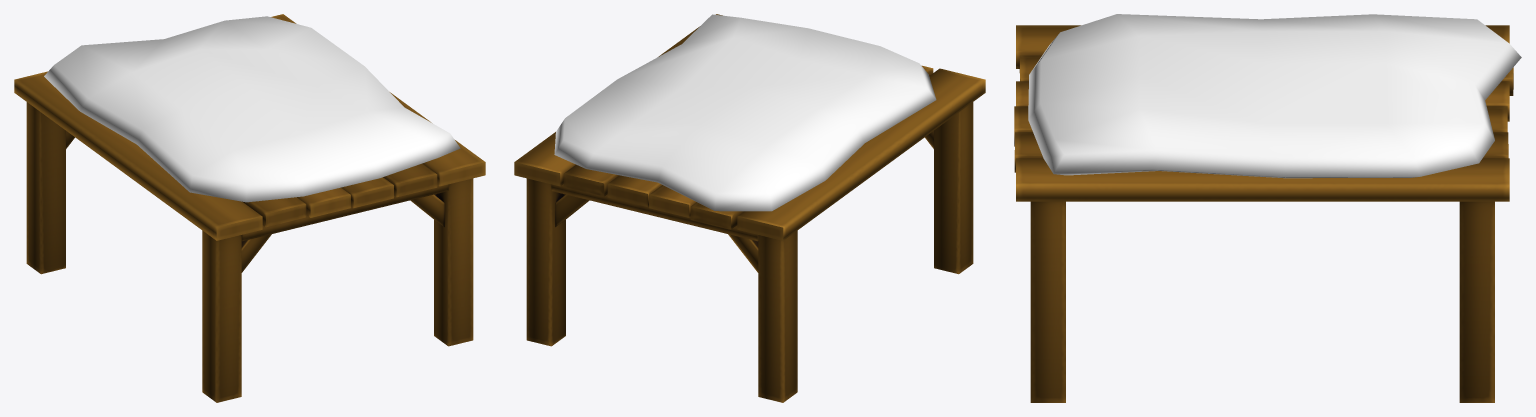
The model's file is Table_Wood_Snow.fbx.
3 renders of one model, left to right at view 1: azimuth 30°, elevation 25°; view 2: azimuth 150°, elevation 25°; view 3: azimuth 270°, elevation 25°, orthographic. The views are drawn at different scales.
Parts seen in each view (by area): view 1: U_Snow, U_Table_Wood_Snow; view 2: U_Snow, U_Table_Wood_Snow; view 3: U_Snow, U_Table_Wood_Snow.
Boxes of the visible parts, x1,y1,x2,y2 form: U_Snow: (44, 16, 460, 202); U_Table_Wood_Snow: (14, 14, 485, 402); U_Snow: (554, 14, 936, 211); U_Table_Wood_Snow: (514, 14, 985, 402); U_Snow: (1028, 14, 1521, 178); U_Table_Wood_Snow: (1014, 25, 1513, 402).
Bounding box in the file's own units: 139 × 106 × 186.
Materials: 2 (1 with a texture image).
